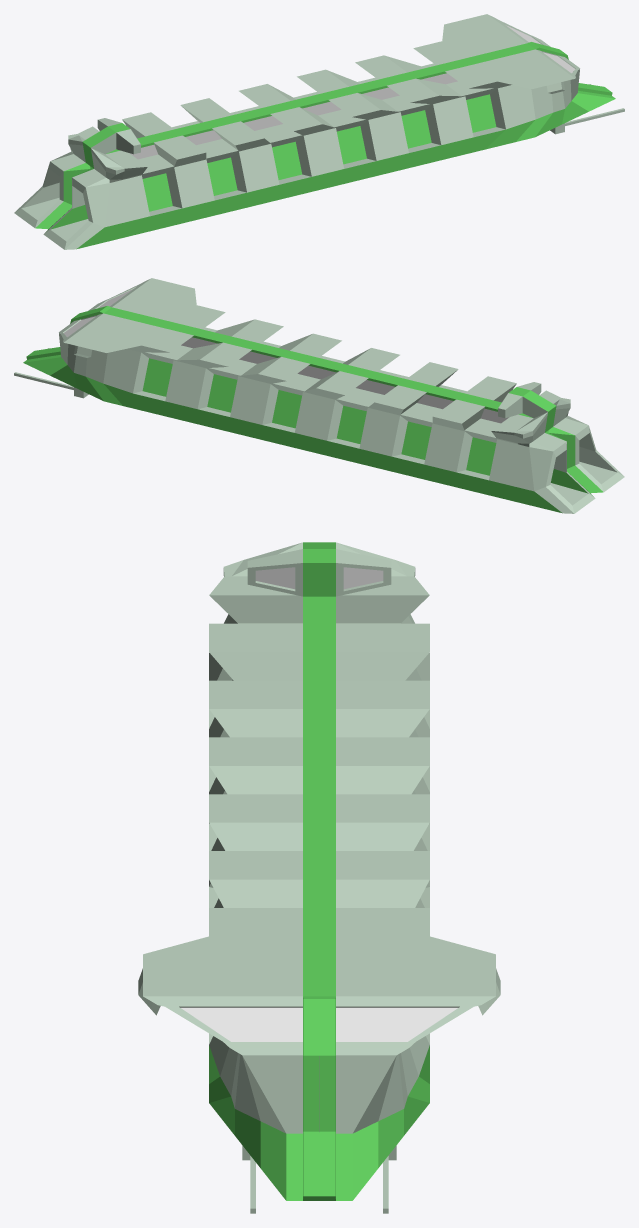
File: Drednaught.fbx
The picture shows the model from 3 angles, top to bottom: view 1: azimuth 30°, elevation 25°; view 2: azimuth 150°, elevation 25°; view 3: azimuth 270°, elevation 25°; orthographic projection. The views are drawn at different scales.
Parts seen in each view (by area): view 1: DeadnaughtHi; view 2: DeadnaughtHi; view 3: DeadnaughtHi.
Boxes of the visible parts, x1,y1,x2,y2 form: DeadnaughtHi: (14,14,624,249); DeadnaughtHi: (14,278,624,513); DeadnaughtHi: (138,542,500,1213).
Bounding box in the file's own units: 1191 × 188 × 328.
